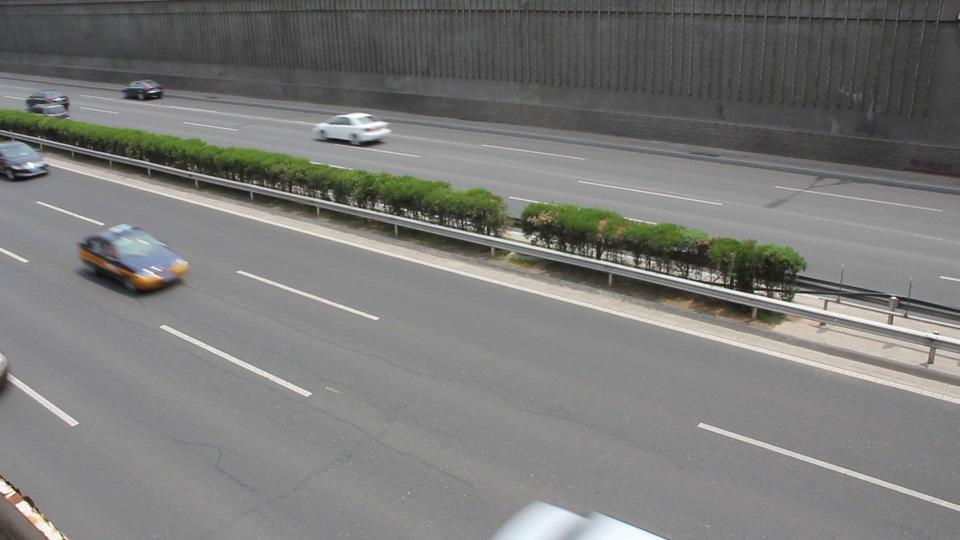Car: (78, 222, 187, 292), (507, 497, 650, 540), (311, 111, 388, 145), (1, 139, 51, 181), (22, 102, 68, 126), (125, 78, 162, 101)
